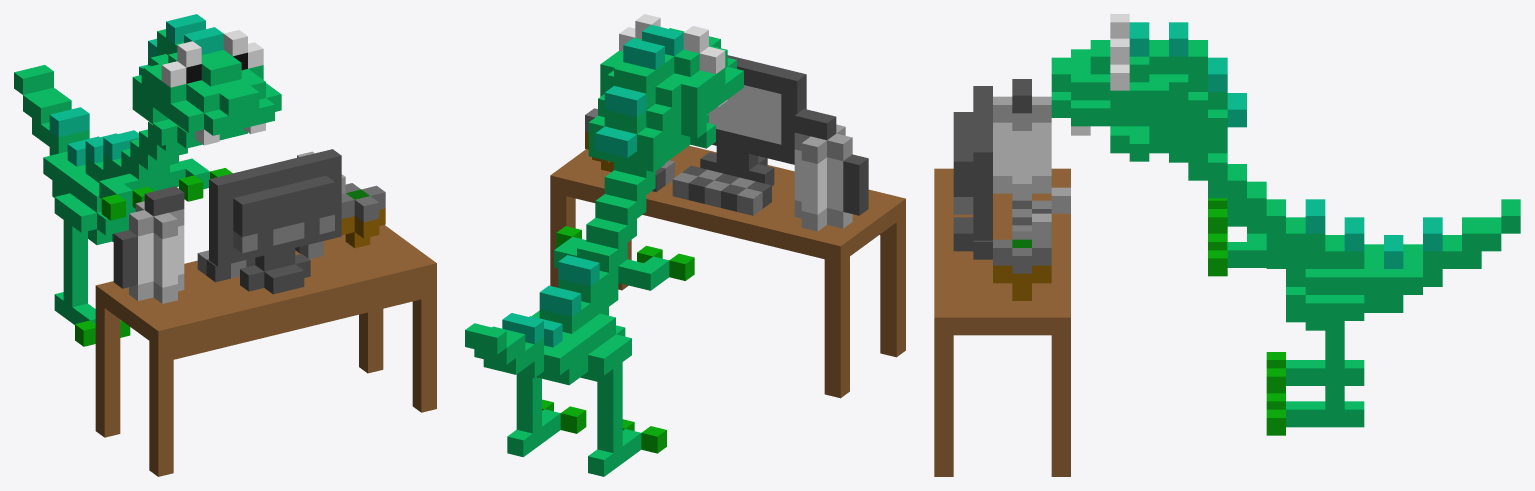
Rendered from escena-dinosaurio.glb.
3 renders of one model, left to right at view 1: azimuth 30°, elevation 25°; view 2: azimuth 150°, elevation 25°; view 3: azimuth 270°, elevation 25°, orthographic. The views are drawn at different scales.
Parts seen in each view (by area): view 1: Untitled; view 2: Untitled; view 3: Untitled.
Part boxes in pixels (x1=…): Untitled: x1=14, y1=14, x2=436, y2=476; Untitled: x1=465, y1=14, x2=905, y2=476; Untitled: x1=934, y1=14, x2=1520, y2=476.
Size of the model in its own units: 1.8 by 2.1 by 3.
Materials: 1 (1 with a texture image).
